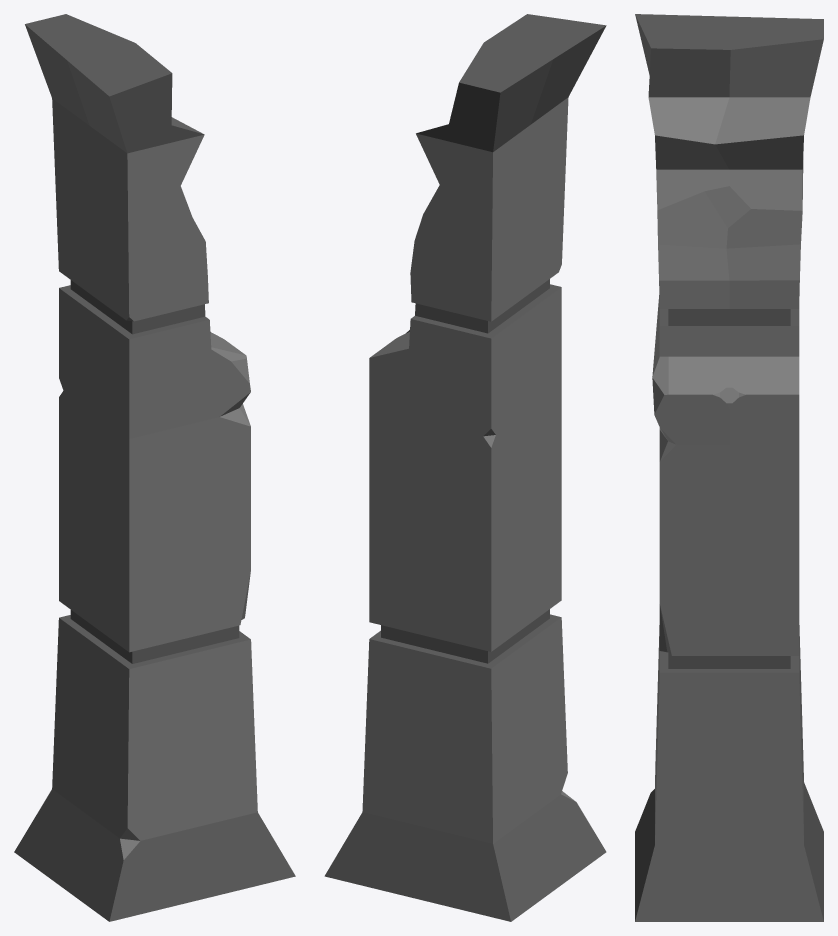
The model's file is Damaged_Pillar_01.fbx.
3 views of the same model, side by side, from view 1: azimuth 30°, elevation 25°; view 2: azimuth 150°, elevation 25°; view 3: azimuth 270°, elevation 25° (orthographic).
Visible parts, largest first — view 1: Damaged_Pillar_01; view 2: Damaged_Pillar_01; view 3: Damaged_Pillar_01.
Boxes of the visible parts, bbox=[...] form: Damaged_Pillar_01: bbox=[14, 14, 295, 921]; Damaged_Pillar_01: bbox=[324, 14, 606, 921]; Damaged_Pillar_01: bbox=[635, 14, 823, 921].
Bounding box in the file's own units: 59.59 × 252 × 52.76.
